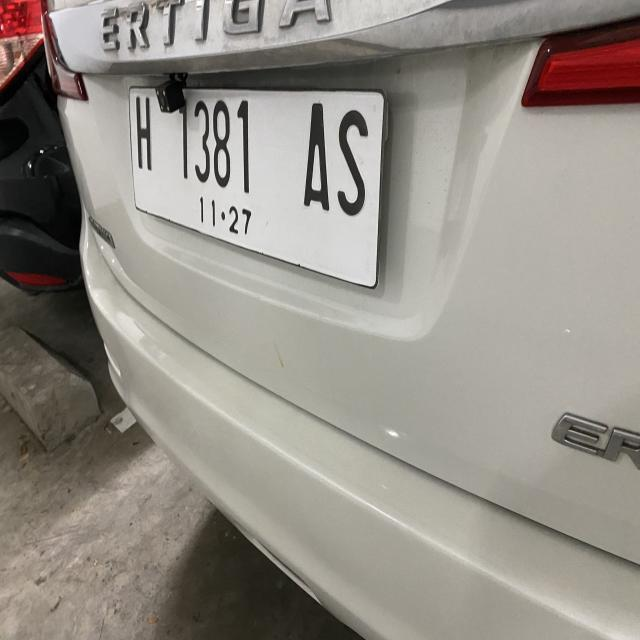1: (172, 96, 193, 183), (238, 89, 254, 190)
3: (196, 96, 212, 188)
8: (210, 89, 235, 191)
A: (304, 92, 333, 222)
H: (132, 90, 155, 178)
S: (338, 92, 376, 216)
